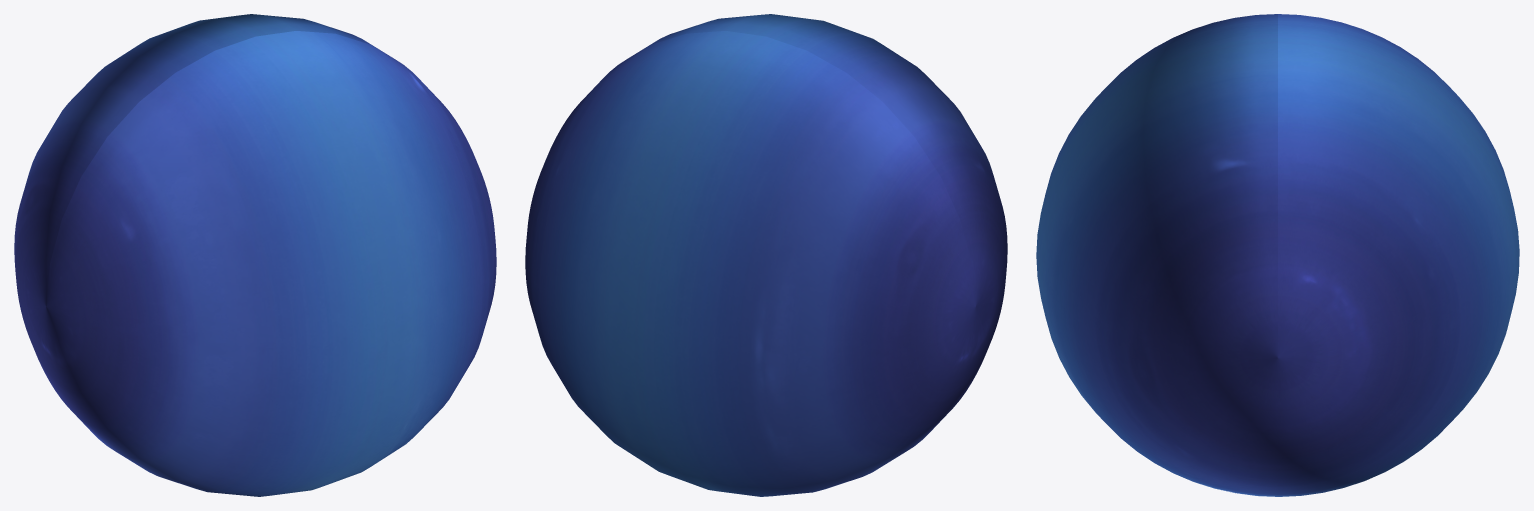
The model's file is neptuneBuilt.obj.
3 renders of one model, left to right at view 1: azimuth 30°, elevation 25°; view 2: azimuth 150°, elevation 25°; view 3: azimuth 270°, elevation 25°, orthographic.
Visible parts, largest first — view 1: Plane; view 2: Plane; view 3: Plane.
Boxes of the visible parts, bbox=[...] form: Plane: bbox=[14, 14, 496, 496]; Plane: bbox=[525, 14, 1007, 496]; Plane: bbox=[1036, 14, 1519, 496].
Bounding box in the file's own units: 1.27 × 1.27 × 1.27.
